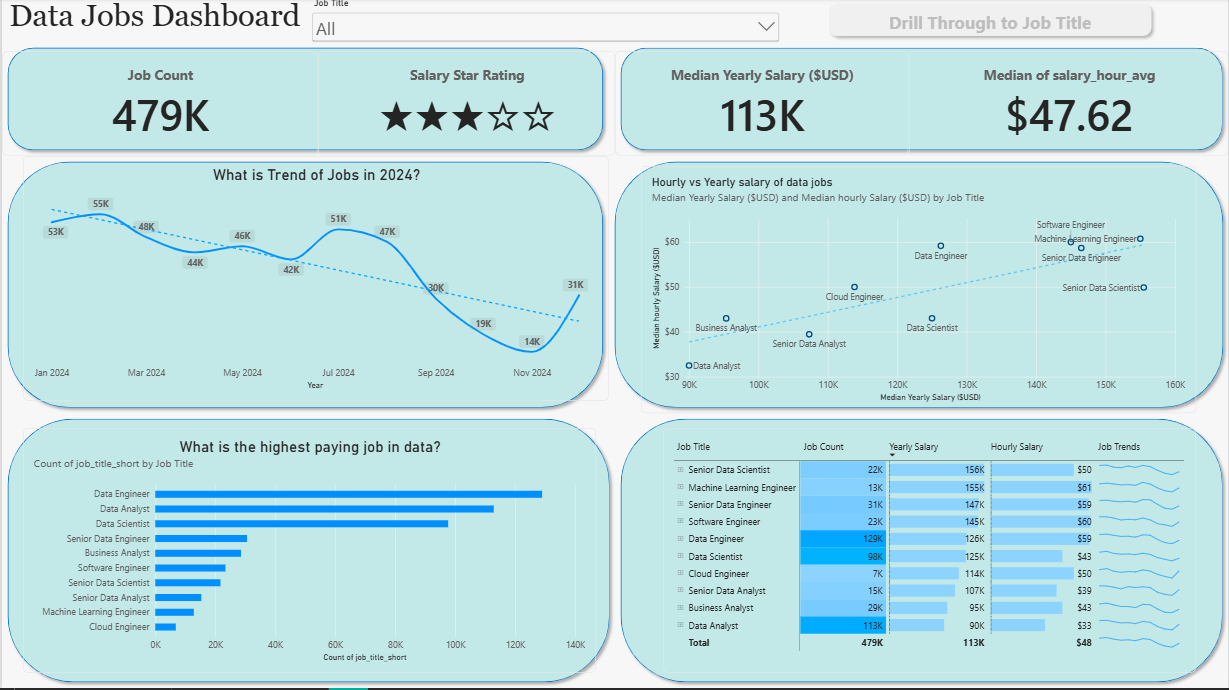

The dashboard page shown, as its layout file describes it:
{"tool":"powerbi","page":{"name":"Data Jobs Dashboard","canvas":[1920,1080],"ordinal":0},"visuals":[{"type":"shape","box":[0,68.6,949.7,178.3],"z":0,"group":"g1"},{"type":"group","id":"g1","title":"Background","box":[0,68.6,1920,1011.4],"z":0},{"type":"textbox","box":[10.5,0,456.3,68.4],"z":1000},{"type":"shape","box":[960,68.6,960,178.3],"z":1000,"group":"g1"},{"type":"slicer","fields":{"Values":["job_postings_flat.job_title_short"]},"box":[480.9,0,740.6,82.5],"z":2000},{"type":"shape","box":[0,246.9,949.7,402.9],"z":2000,"group":"g1"},{"type":"cardVisual","fields":{"Data":["Median(job_postings_flat.salary_year_avg)"]},"box":[960,83,459.7,164.1],"z":3000},{"type":"shape","box":[949.7,246.9,970.3,402.9],"z":3000,"group":"g1"},{"type":"cardVisual","fields":{"Data":["Median(job_postings_flat.salary_hour_avg)"]},"box":[1419.7,83,500.3,164.1],"z":4000},{"type":"shape","box":[0,649.7,960,430.3],"z":4000,"group":"g1"},{"type":"cardVisual","fields":{"Data":["job_postings_flat.Salary Star Rating"]},"box":[494.2,83,465.8,164.1],"z":5000},{"type":"shape","box":[960,649.7,960,430.3],"z":5000,"group":"g1"},{"type":"cardVisual","fields":{"Data":["CountNonNull(job_postings_flat.job_title_short)"]},"box":[0,83,494.2,164.1],"z":6000},{"type":"lineChart","title":"What is Trend of Jobs in 2024?","fields":{"Category":["job_postings_flat.job_posted_date.Variation.Date Hierarchy.Year","job_postings_flat.job_posted_date.Variation.Date Hierarchy.Quarter","job_postings_flat.job_posted_date.Variation.Date Hierarchy.Month","job_postings_flat.job_posted_date.Variation.Date Hierarchy.Day"],"Y":["CountNonNull(job_postings_flat.job_title_short)"]},"box":[32.4,247.1,917.5,382.8],"z":7000},{"type":"barChart","title":"What is the highest paying job in data?","fields":{"Category":["job_postings_flat.job_title_short"],"Y":["CountNonNull(job_postings_flat.job_title_short)"]},"box":[32.4,672.4,897.2,382.8],"z":8000},{"type":"scatterChart","title":"Hourly vs Yearly salary of data jobs","fields":{"Series":["job_postings_flat.job_title_short"],"X":["Median(job_postings_flat.salary_year_avg)"],"Y":["Median(job_postings_flat.salary_hour_avg)"]},"box":[1000.5,263.3,868.9,386.8],"z":9000},{"type":"pivotTable","fields":{"Rows":["job_postings_flat.job_title_short","job_postings_flat.job_posted_date.Variation.Date Hierarchy.Quarter"],"Values":["CountNonNull(job_postings_flat.job_title_short)","Median(job_postings_flat.salary_year_avg)","Median(job_postings_flat.salary_hour_avg)","SparklineData(CountNonNull(job_postings_flat.job_title_short)_[job_postings_flat.job_posted_date.Variation.Date Hierarch"]},"box":[1034.9,672.4,834.4,382.8],"z":10000},{"type":"actionButton","box":[1284.7,0,523,68.4],"z":10001}]}

Visuals, with their boxes in screenshot pixels (x1, y1, x2, y2), scaled from the page's 1920x1080 canvas onto the 1229x690 screenshot:
shape: [0, 44, 608, 158]
"Background" group: [0, 44, 1228, 689]
textbox: [7, 0, 299, 44]
shape: [614, 44, 1228, 158]
slicer - job_postings_flat.job_title_short: [308, 0, 782, 53]
shape: [0, 158, 608, 415]
cardVisual - Median(job_postings_flat.salary_year_avg): [614, 53, 909, 158]
shape: [608, 158, 1228, 415]
cardVisual - Median(job_postings_flat.salary_hour_avg): [909, 53, 1228, 158]
shape: [0, 415, 614, 689]
cardVisual - job_postings_flat.Salary Star Rating: [316, 53, 614, 158]
shape: [614, 415, 1228, 689]
cardVisual - CountNonNull(job_postings_flat.job_title_short): [0, 53, 316, 158]
"What is Trend of Jobs in 2024?" lineChart: [21, 158, 608, 402]
"What is the highest paying job in data?" barChart: [21, 430, 595, 674]
"Hourly vs Yearly salary of data jobs" scatterChart: [640, 168, 1197, 415]
pivotTable - job_postings_flat.job_title_short x job_postings_flat.job_posted_date.Variation.Date Hierarchy.Quarter: [662, 430, 1197, 674]
actionButton: [822, 0, 1157, 44]
